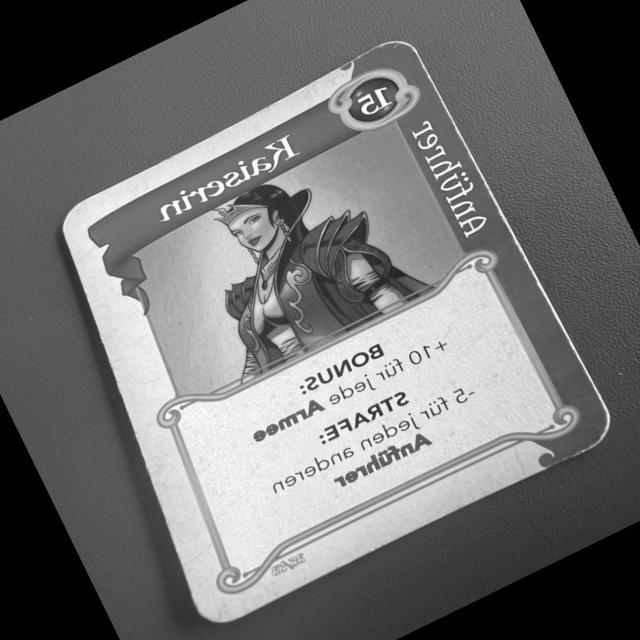Empress: (51, 29, 617, 639)
